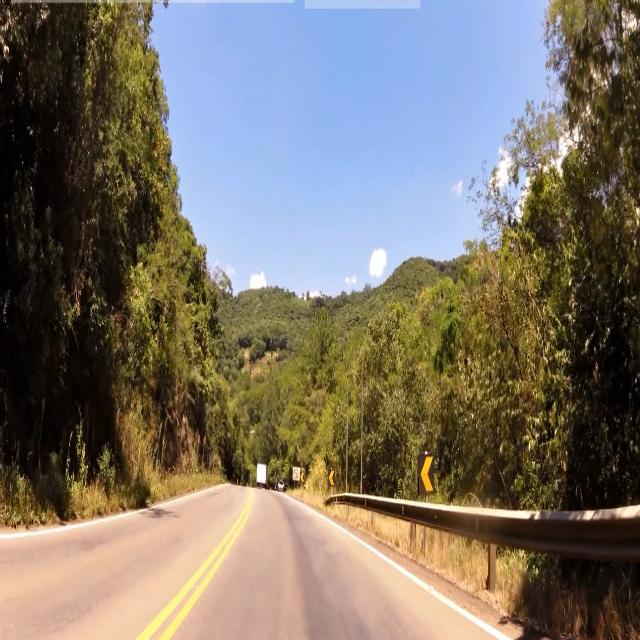Del: (415, 446, 439, 502)
